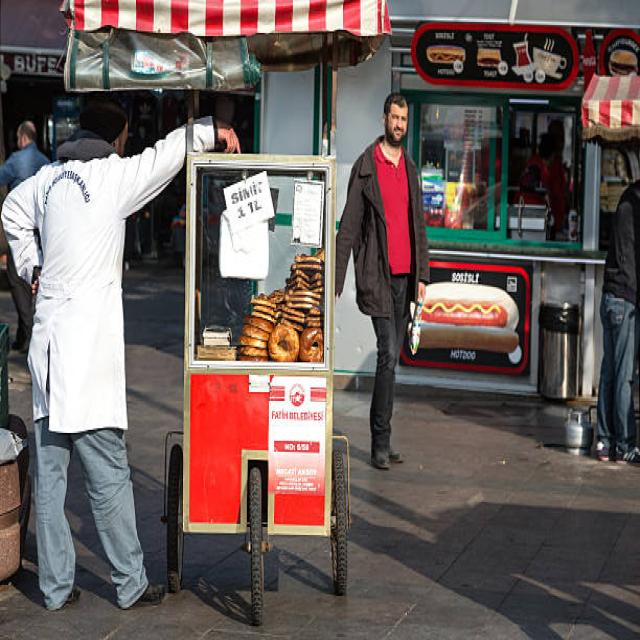Emperan: (53, 0, 395, 639)
